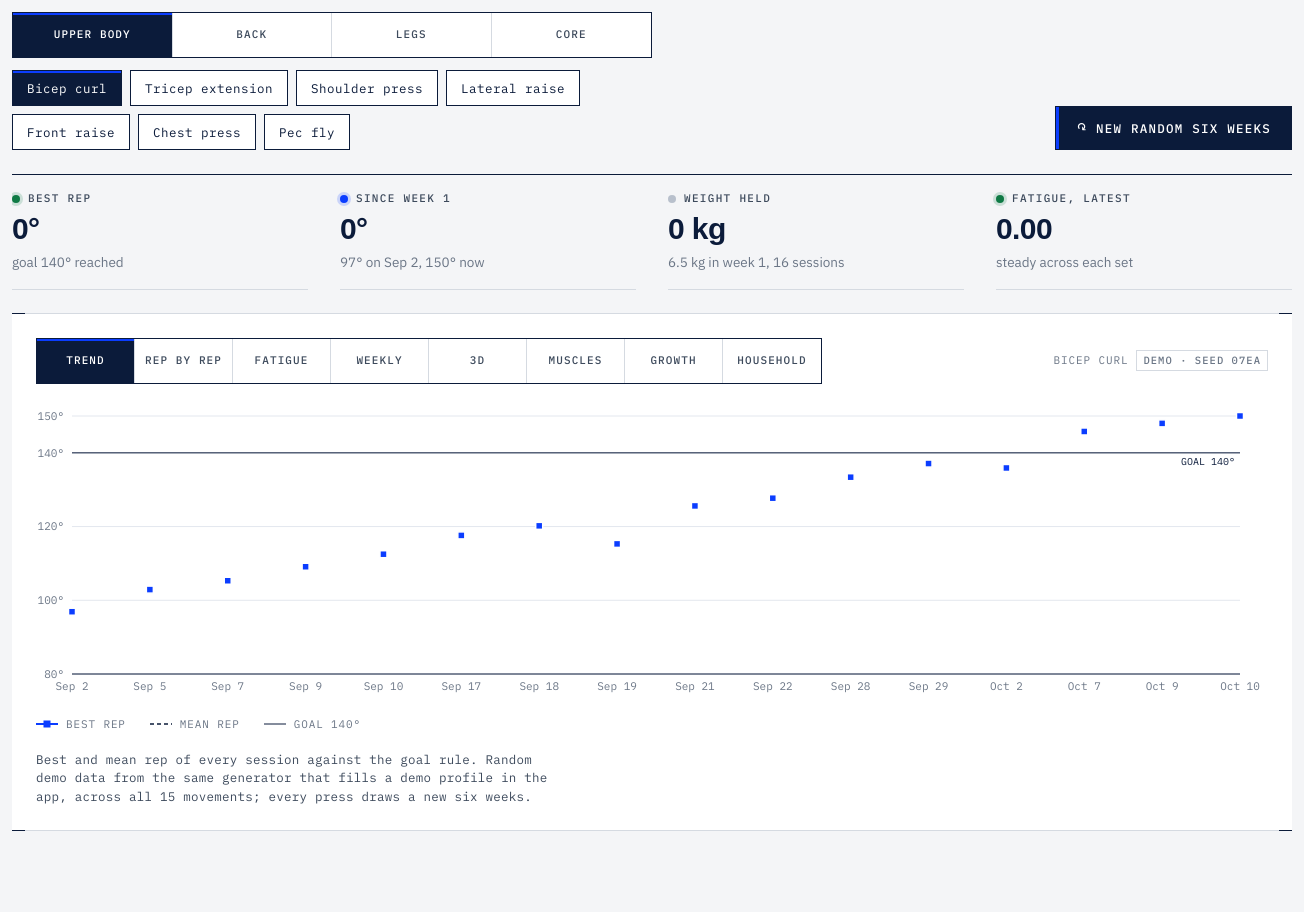
Scenario: the landing readouts › shows the body with the muscles a movement works
Press the mouse on the tab "Muscles" at (576, 361), box [527,339,625,383]
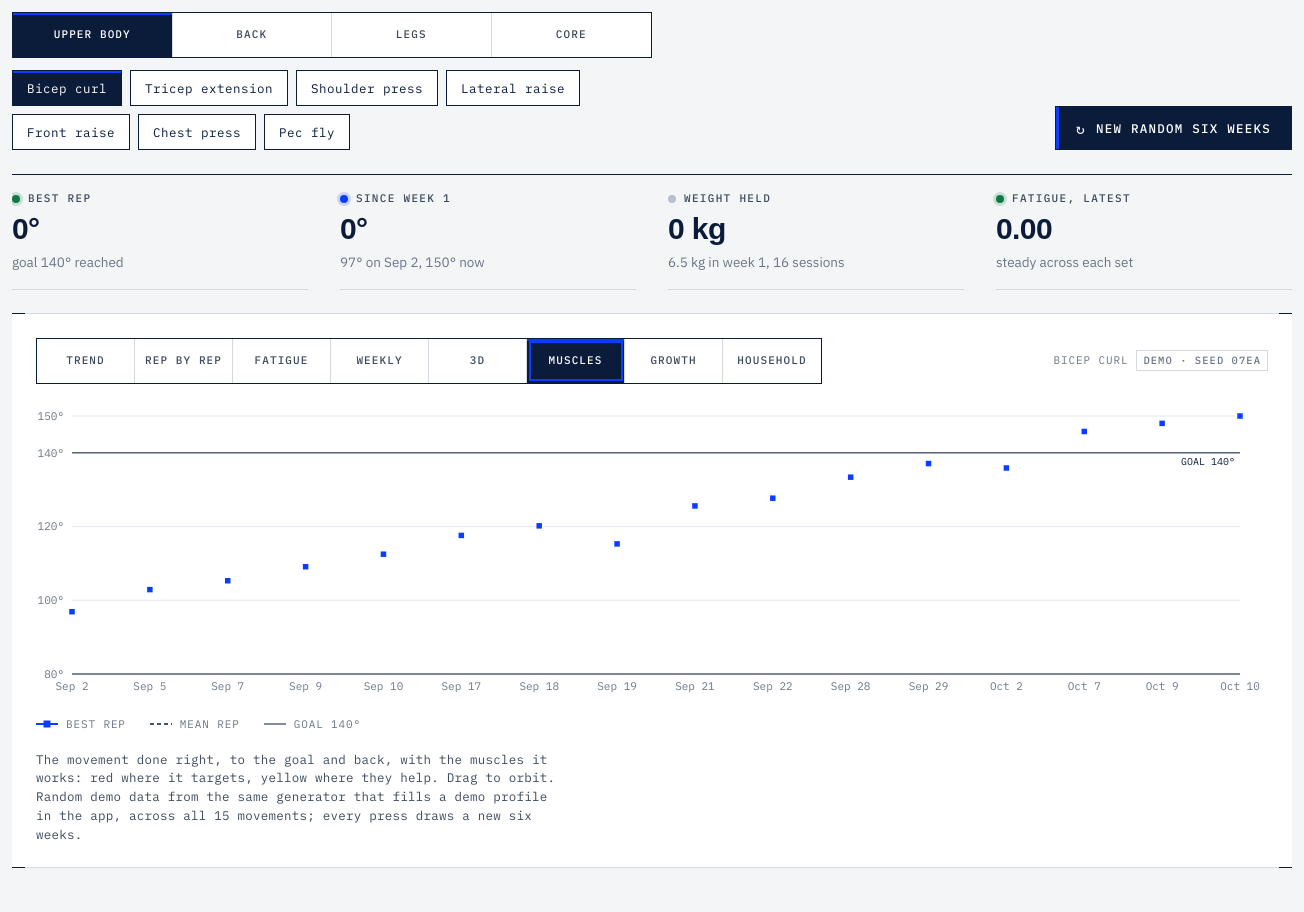
Click the tab "Muscles" at (576, 361), box [527,339,625,383]
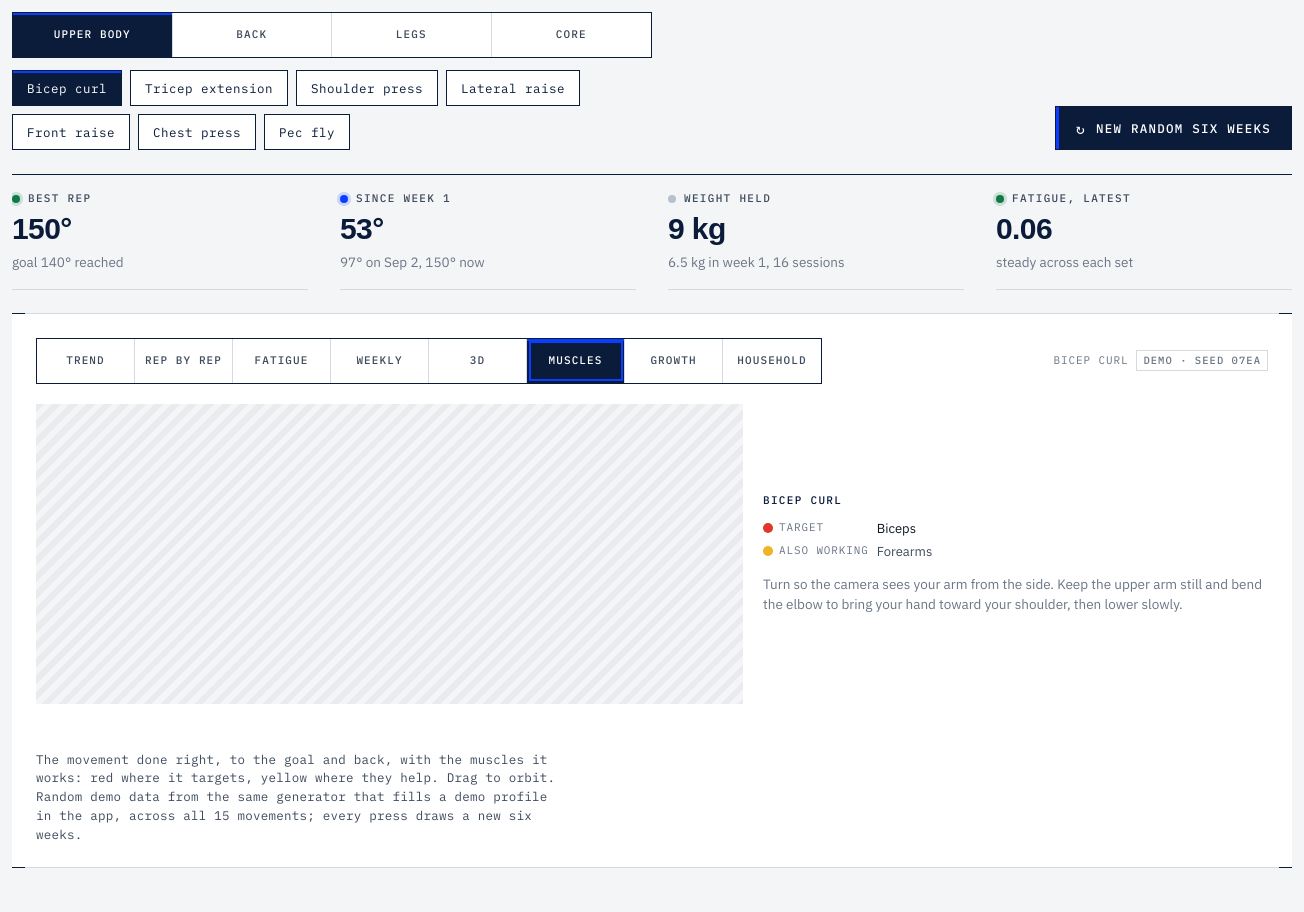
Expected: the text "Biceps" is shown, [877,520,916,537]
Expected: the text "Forearms" is shown, [877,543,932,560]
